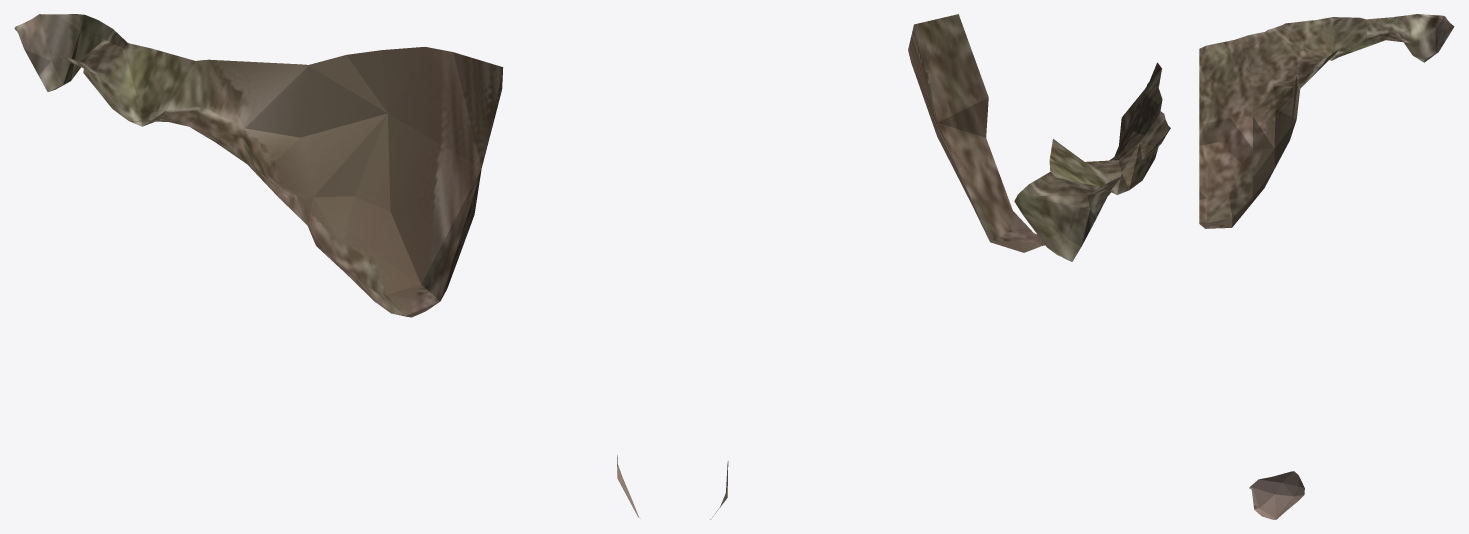
3 views of the same model, side by side, from view 1: azimuth 30°, elevation 25°; view 2: azimuth 150°, elevation 25°; view 3: azimuth 270°, elevation 25° (orthographic). The views are drawn at different scales.
Size of the model in its own units: 2.61 by 2.56 by 1.73.
Materials: 1 (1 with a texture image).
